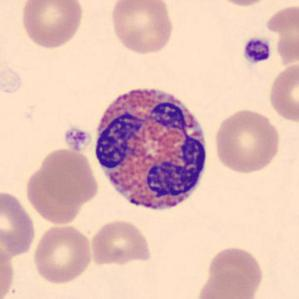Eosinophil: (90, 77, 212, 220)
Platelets: (241, 35, 273, 66), (62, 126, 92, 152)
RBC: (212, 107, 282, 175), (23, 159, 87, 227), (31, 222, 94, 286), (36, 147, 100, 206), (108, 0, 175, 56), (18, 0, 85, 50), (88, 217, 153, 267), (204, 244, 265, 297), (0, 188, 37, 258), (263, 3, 299, 67), (266, 61, 298, 124), (194, 269, 259, 299), (0, 241, 16, 299), (212, 0, 275, 7)
